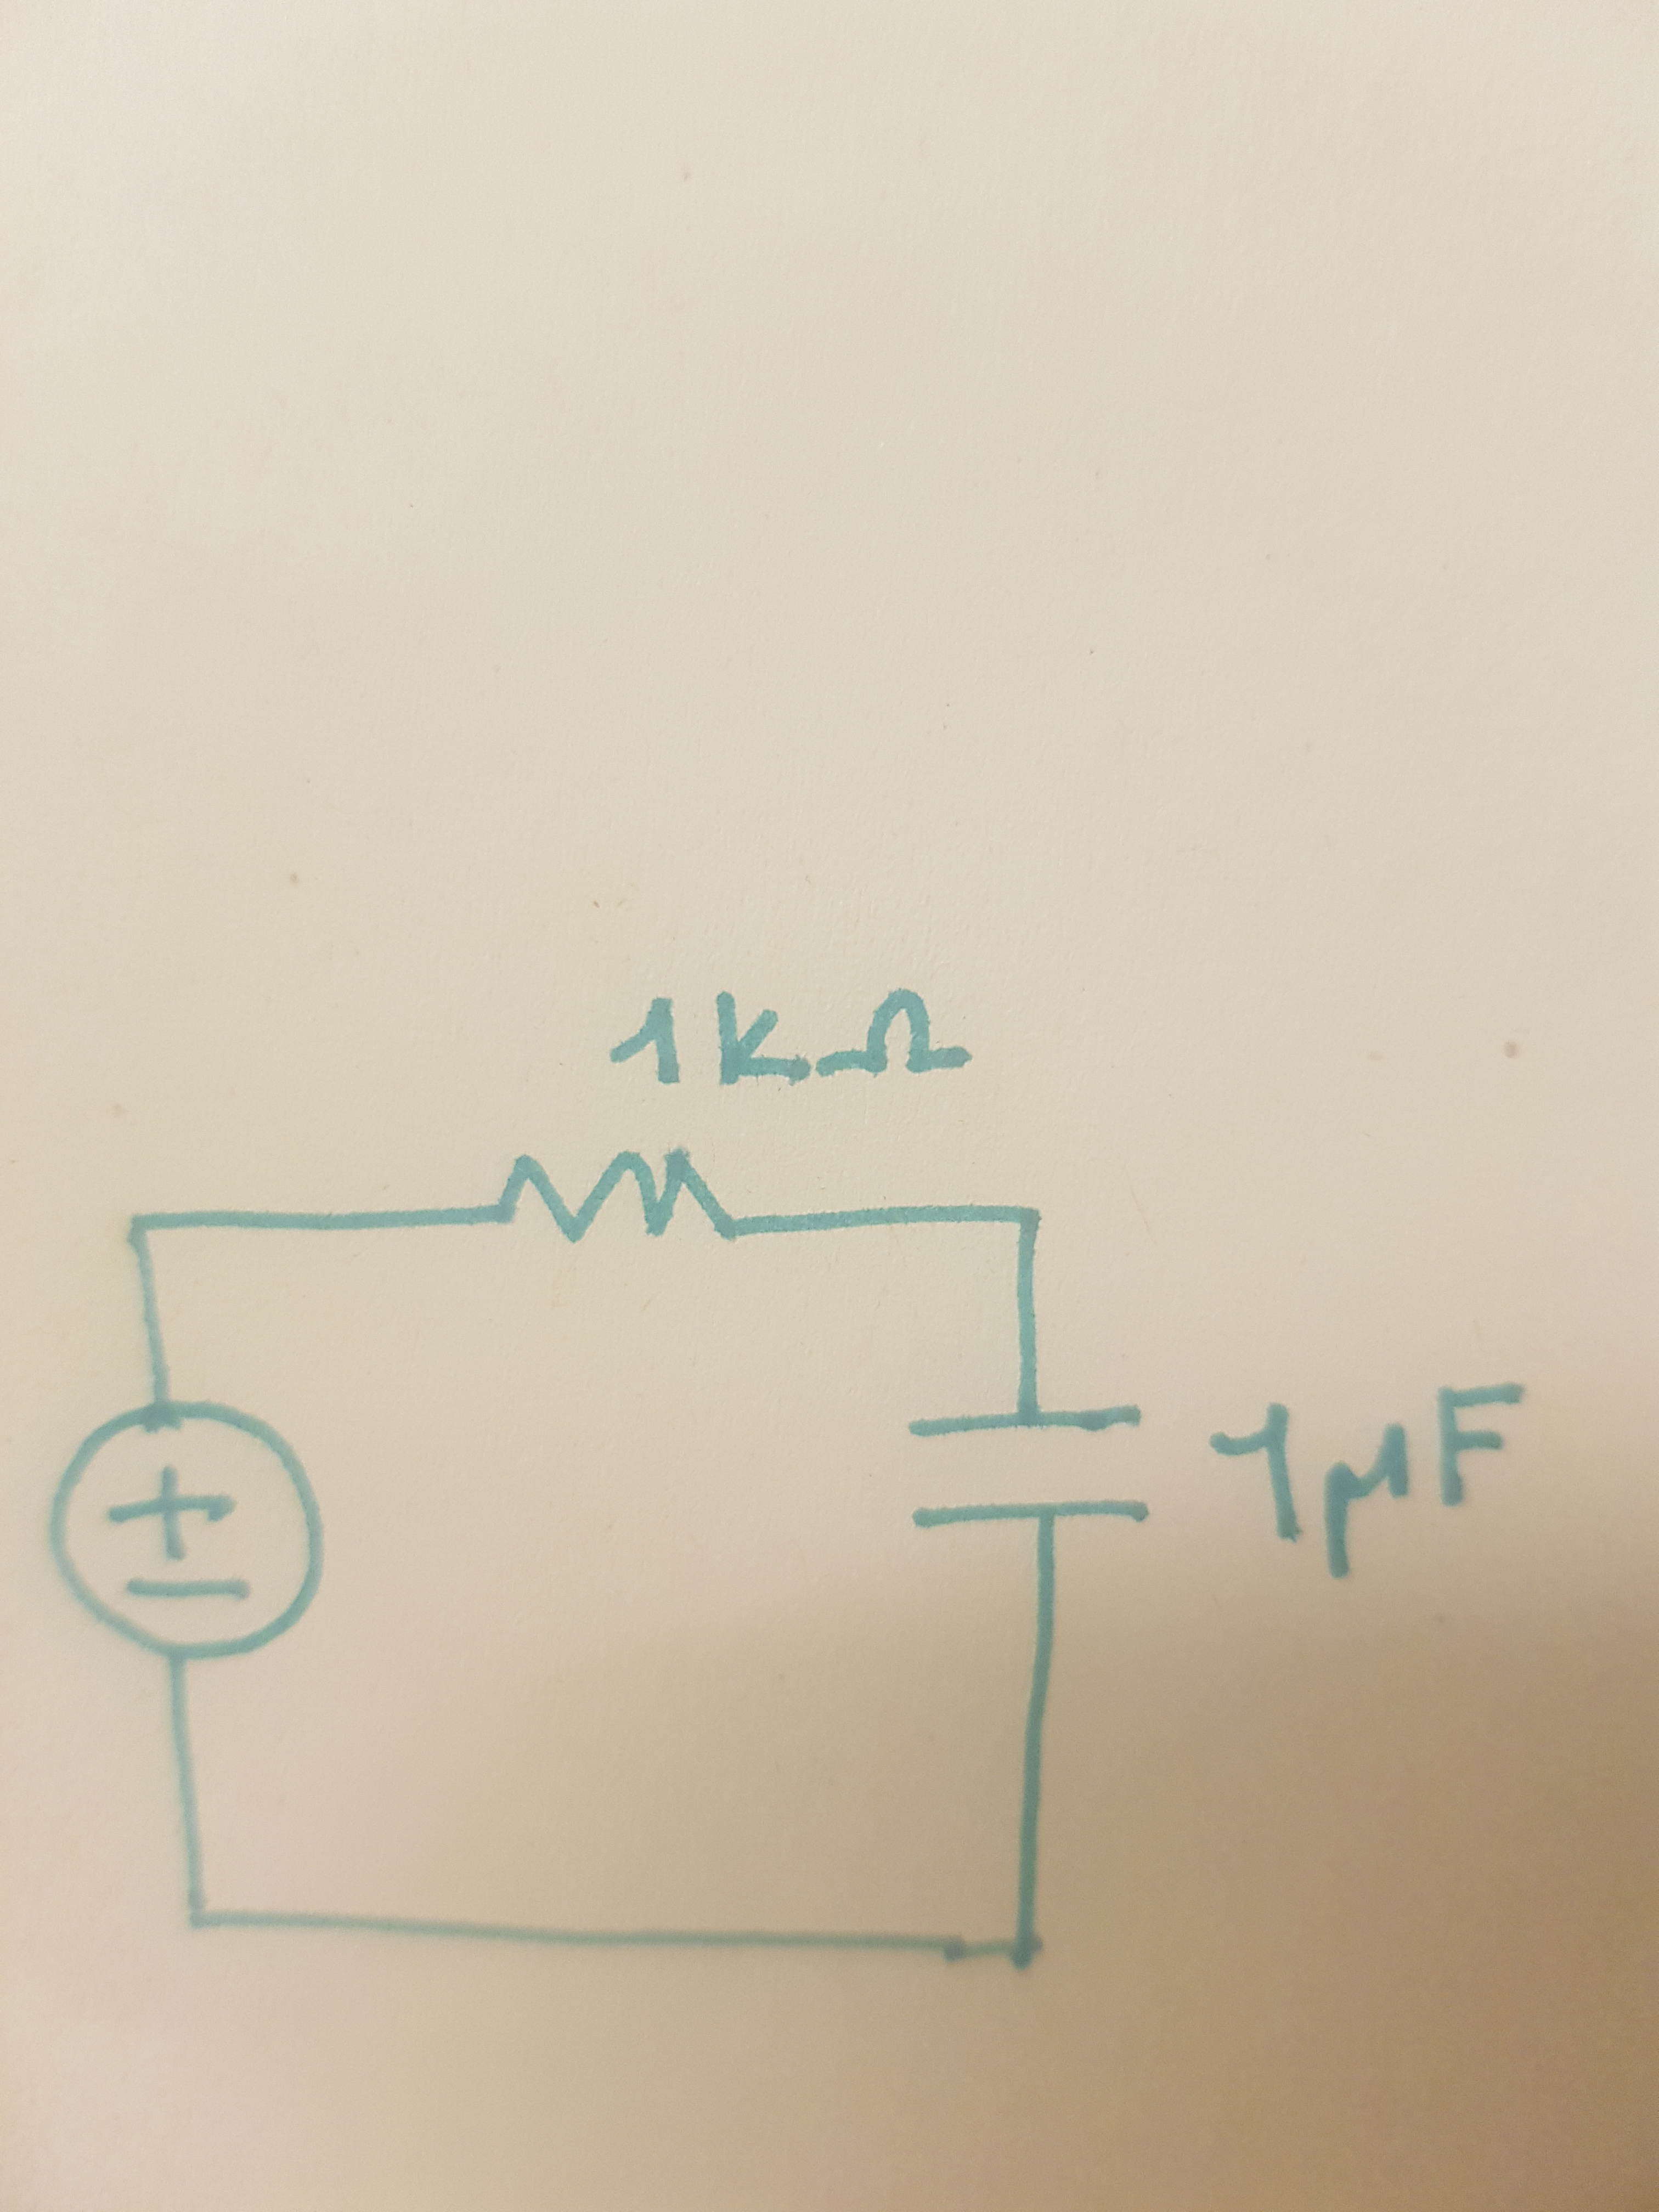capacitor.unpolarized: (887, 1378, 1162, 1564)
junction: (986, 1914, 1058, 1982), (113, 1197, 178, 1261), (173, 1885, 235, 1947), (993, 1197, 1049, 1254)
resistor: (476, 1136, 758, 1271)
text: (1202, 1360, 1546, 1601), (589, 970, 986, 1108)
voltage.dc: (35, 1388, 342, 1677)
